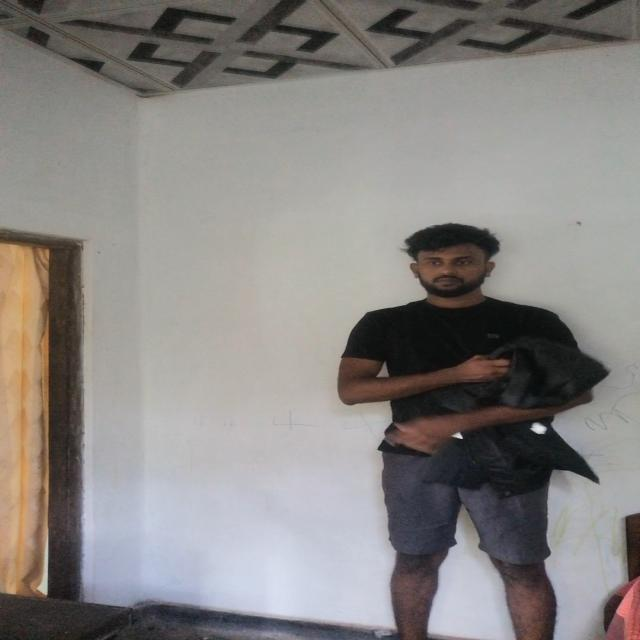Person: (338, 222, 621, 620)
